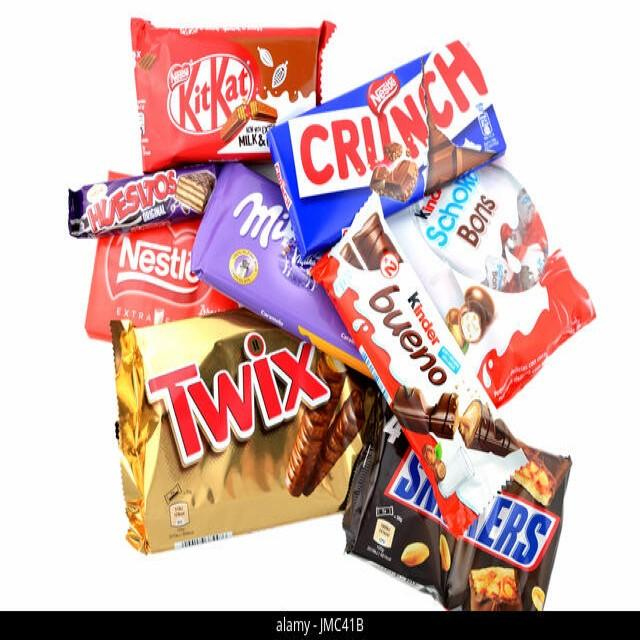kitkat_chocolate: (150, 28, 320, 172)
